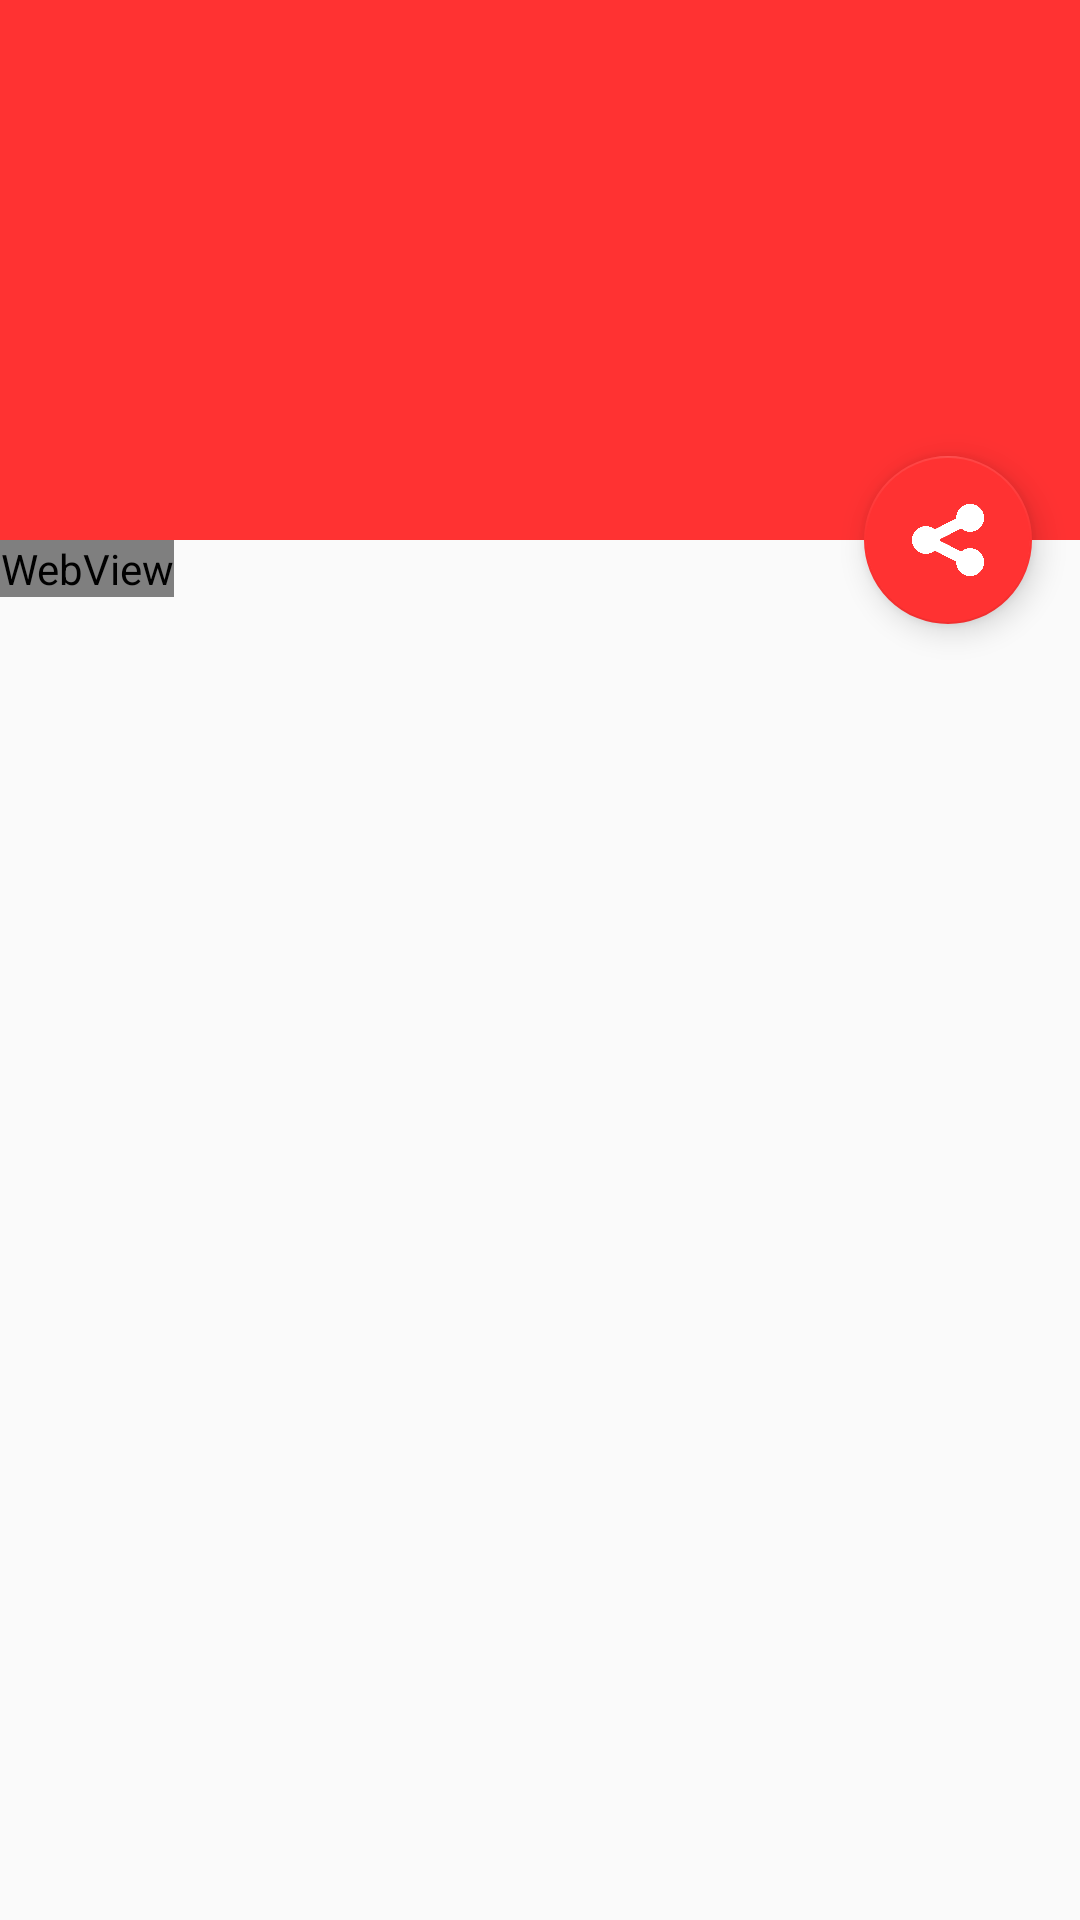

Where to tap for icons on this 1080 x 1920 app screen, as point (x, y):
share: point (948, 540)
